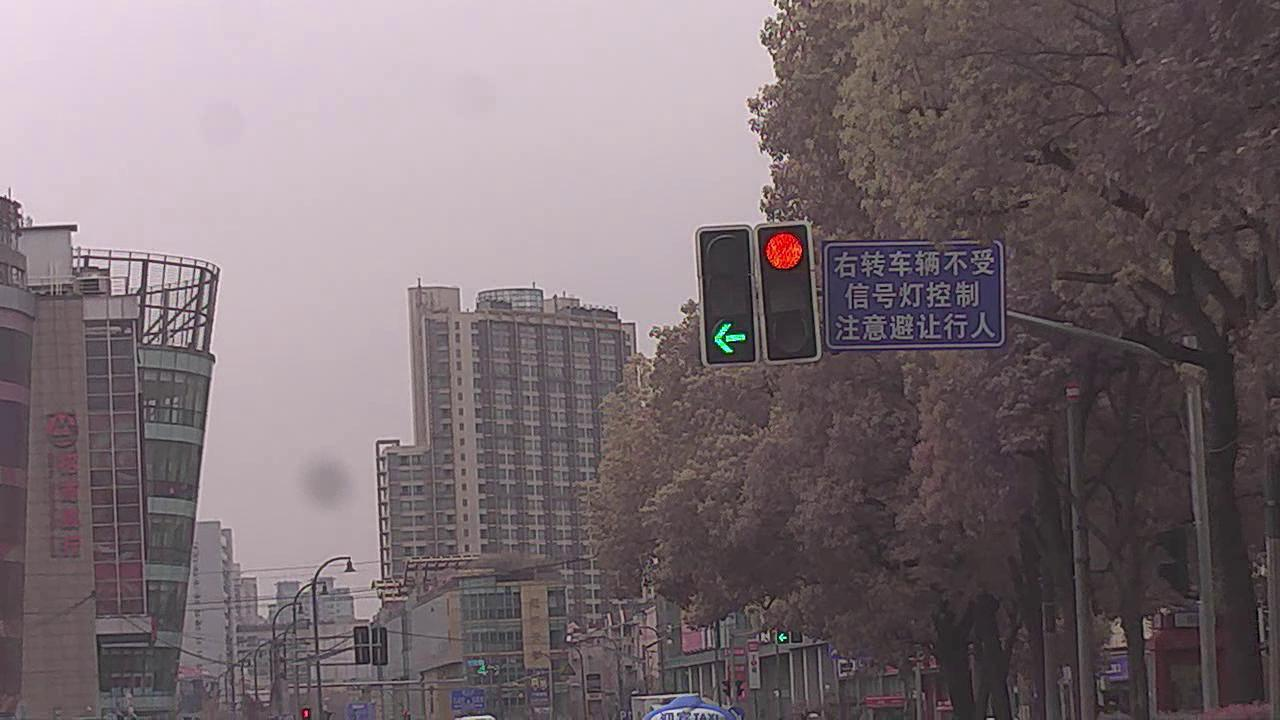traffic_light: (754, 223, 824, 360), (698, 228, 762, 367)
